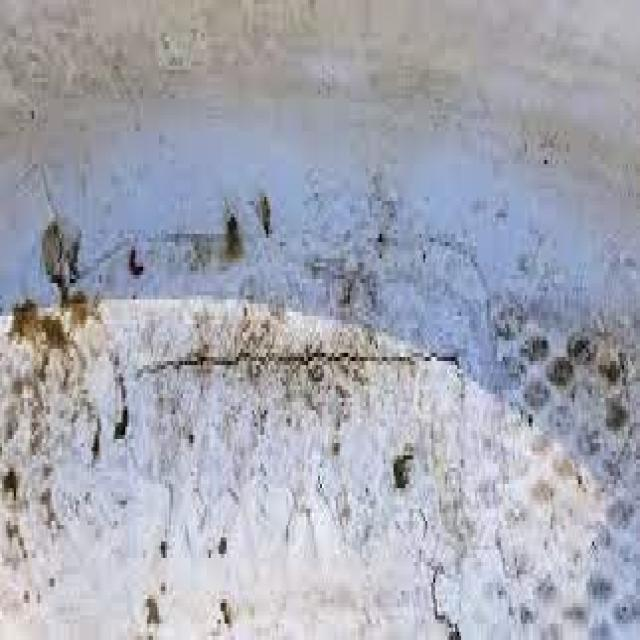Crack: (125, 328, 465, 386)
